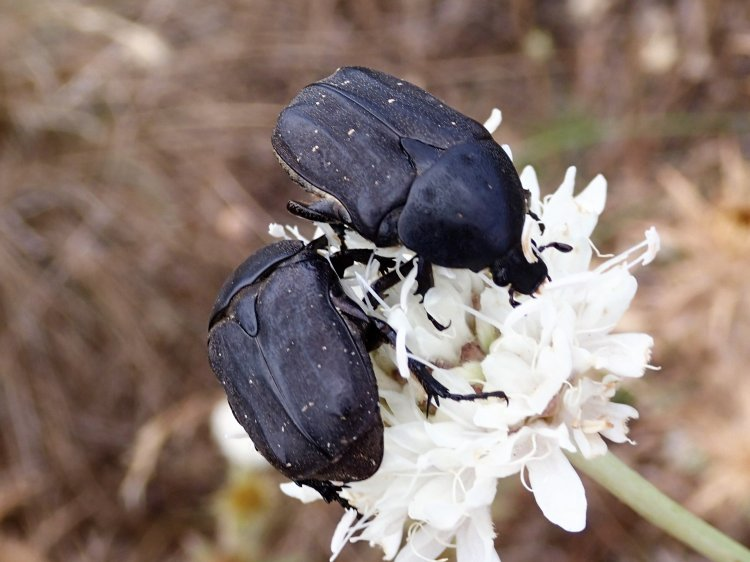Protaetia_morio_morio: (176, 227, 513, 524), (266, 52, 583, 306)
